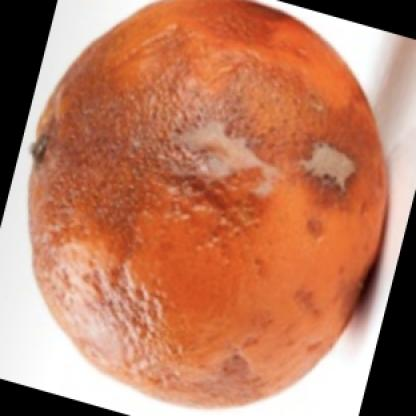rotten: (30, 1, 388, 406)
